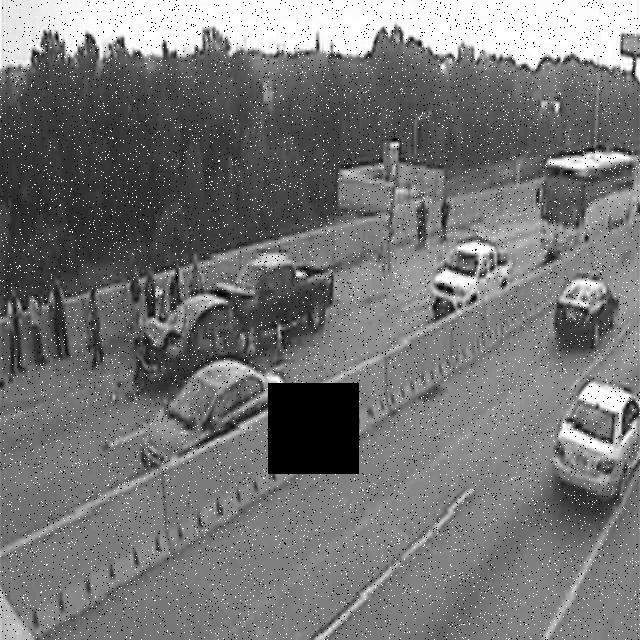vehicle: (117, 230, 340, 392)
